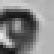correct: (0, 7, 40, 54)
